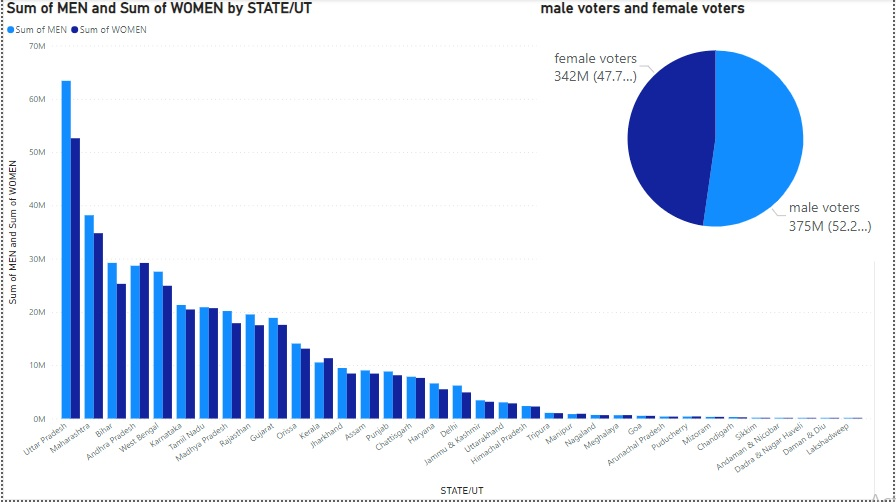

Layout of this report page (visuals, bound fields, positions):
{"tool":"powerbi","page":{"name":"Page 2","canvas":[1280,720],"ordinal":1},"visuals":[{"type":"clusteredColumnChart","fields":{"Category":["Append1.STATE/UT"],"Y":["Sum(Append1.MEN)","Sum(Append1.WOMEN)"]},"box":[0,0,1253.2,720],"z":0},{"type":"pieChart","fields":{"Y":["Append1.Measure","Append1.Measure 2"]},"box":[767.4,0,513.1,376.5],"z":1000}]}

Visuals, with their boxes in screenshot pixels (x1, y1, x2, y2), scaled from the page's 1280x720 canvas onto the 896x502 screenshot:
clusteredColumnChart - Append1.STATE/UT x Sum(Append1.MEN): l=0, t=0, r=877, b=501
pieChart - Append1.Measure x Append1.Measure 2: l=537, t=0, r=895, b=263
